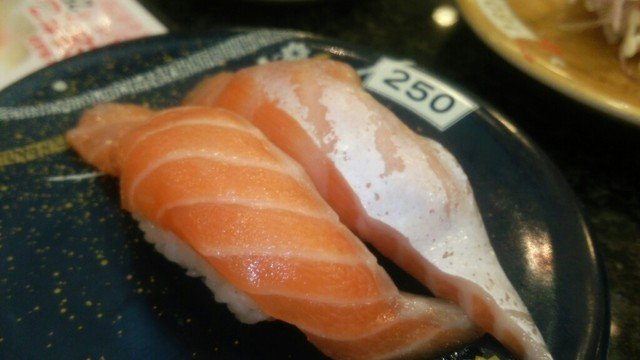salmon: (57, 101, 455, 360)
